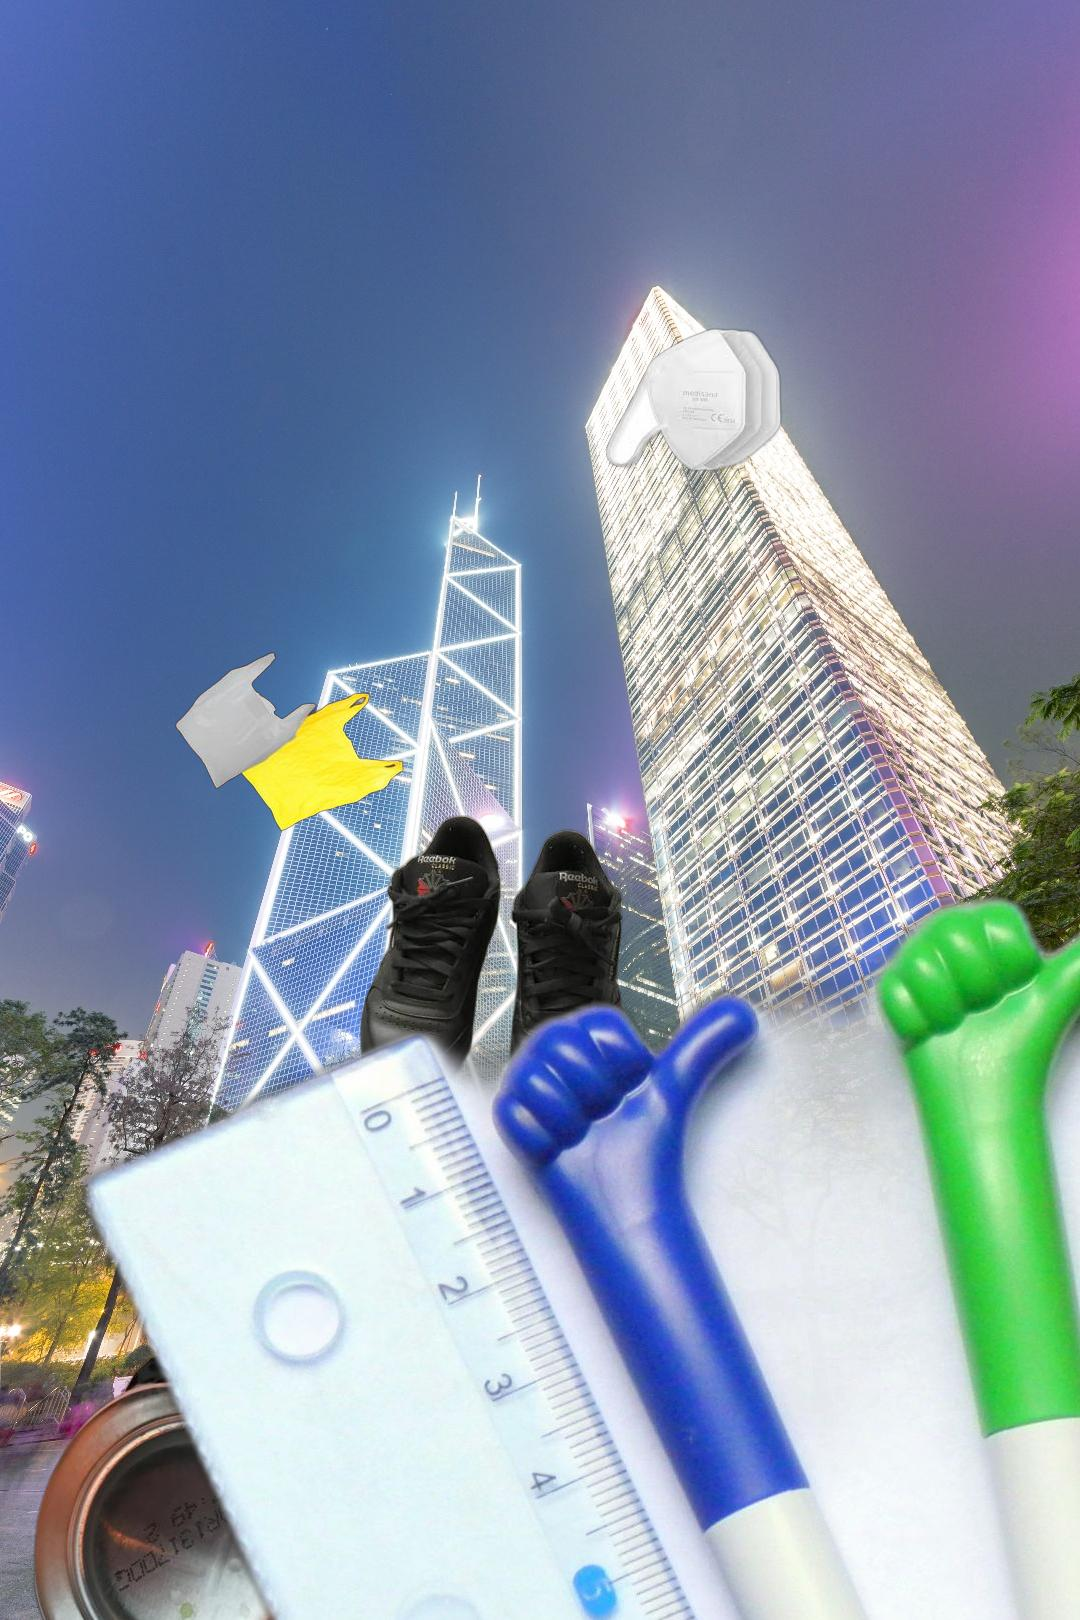metal-cans: (30, 1352, 336, 1620)
paper-bag: (991, 1448, 1080, 1620)
penholder: (65, 759, 1080, 1620)
plastic-bag: (175, 650, 406, 834)
shoes: (357, 811, 630, 1138)
trash: (604, 325, 783, 474)
